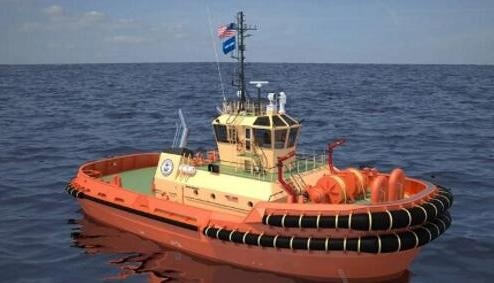otherboat: (63, 9, 453, 278)
